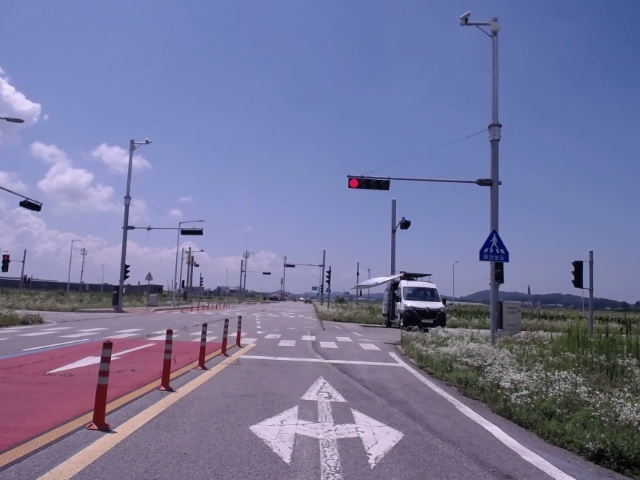red_4: (348, 177, 391, 191)
